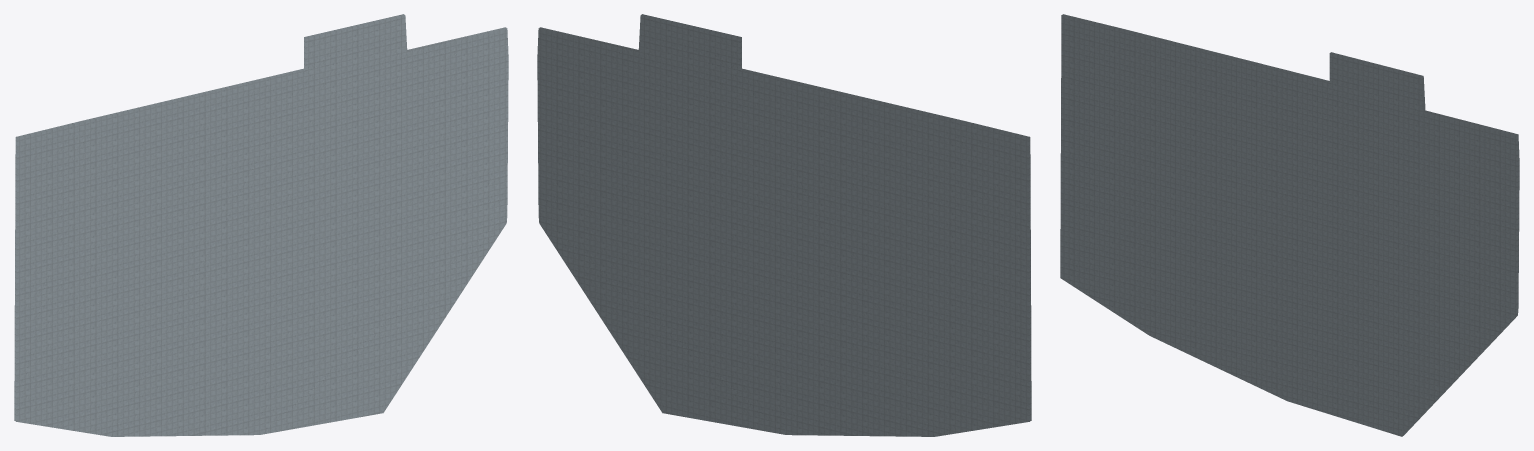
File: floor_42.obj
3 views of the same model, side by side, from view 1: azimuth 30°, elevation 25°; view 2: azimuth 150°, elevation 25°; view 3: azimuth 330°, elevation 25° (orthographic). The views are drawn at different scales.
Visible parts, largest first — view 1: floor_42; view 2: floor_42; view 3: floor_42.
Boxes of the visible parts, x1,y1,x2,y2 form: floor_42: [14, 14, 508, 436]; floor_42: [537, 14, 1031, 436]; floor_42: [1060, 14, 1519, 436].
Bounding box in the file's own units: 22.59 × 17.26 × 0.1.
Materials: 1 (1 with a texture image).
